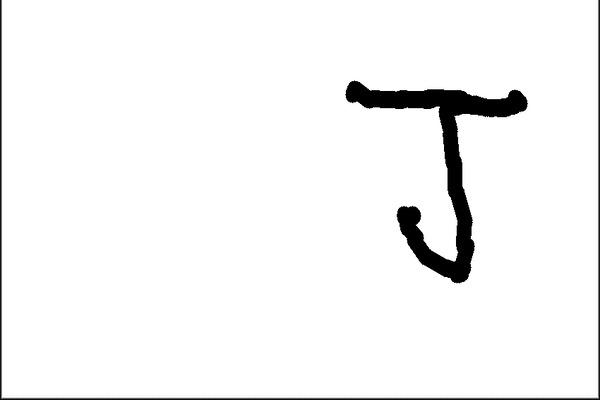J: (334, 72, 530, 285)
